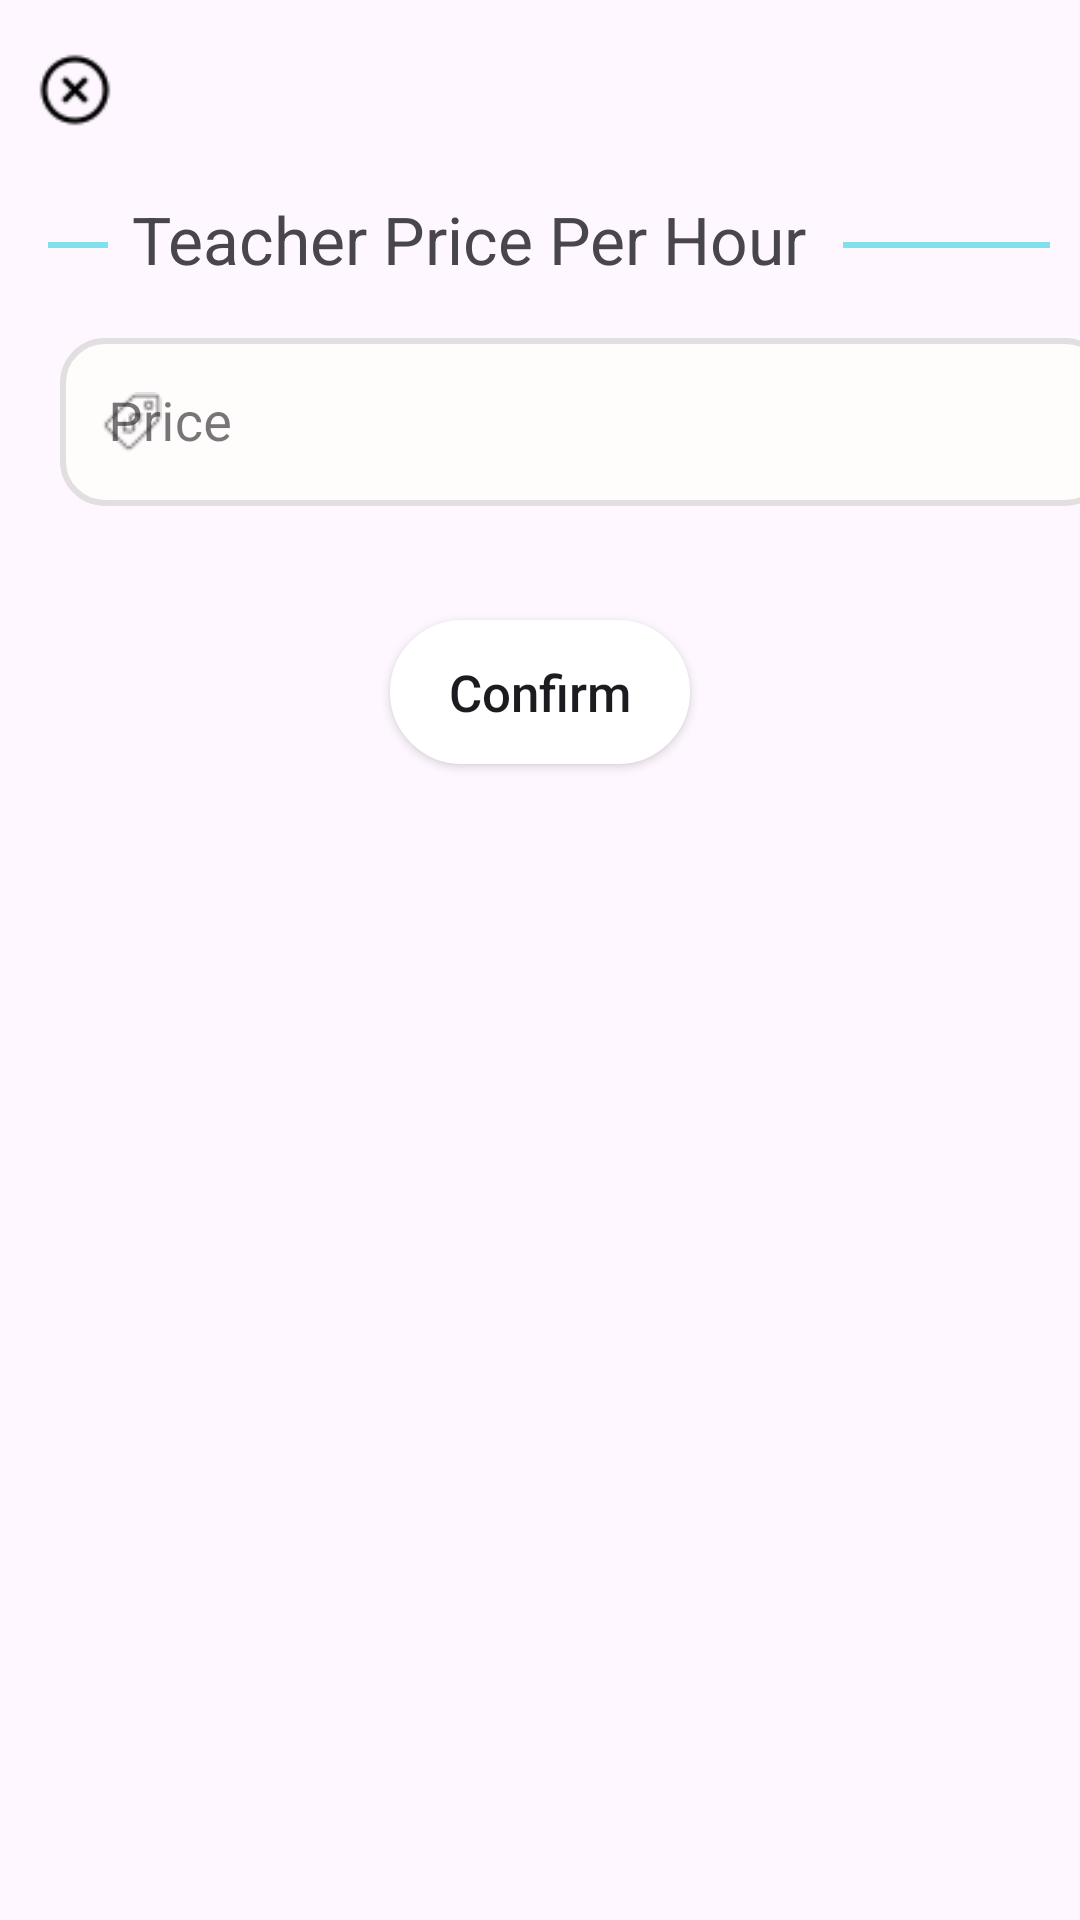

Icon click points for this 1080 × 1920 phone screenshot, format (x,y):
close: (75,90)
